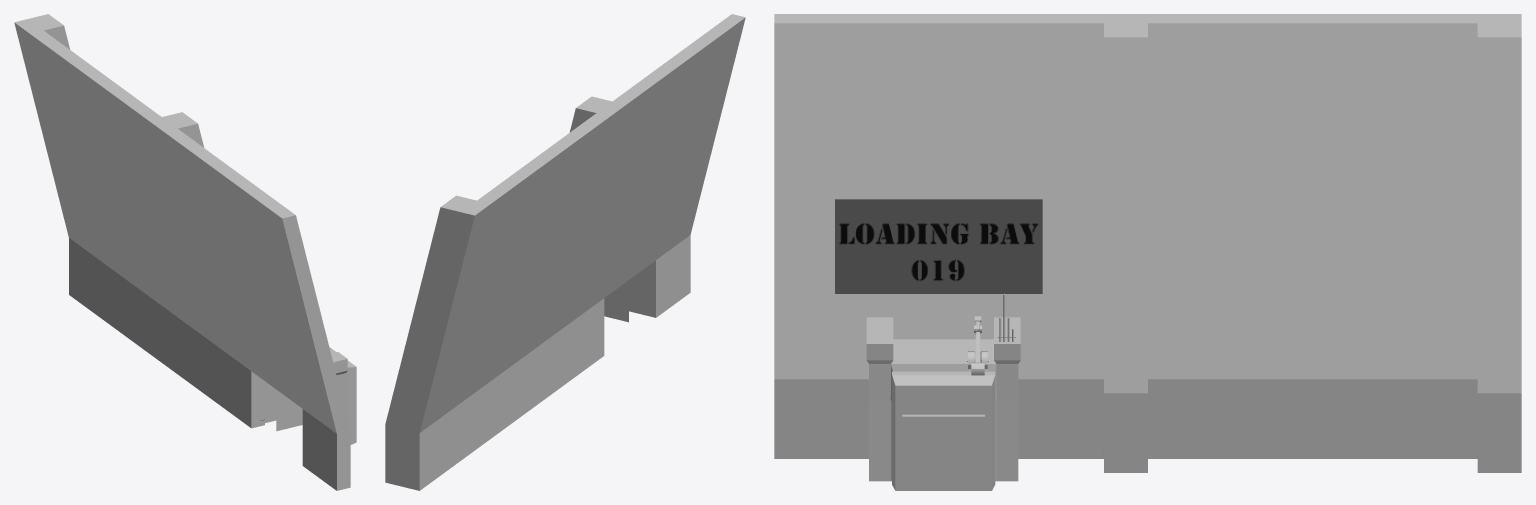
The model's file is Level2Exterior.fbx.
3 views of the same model, side by side, from view 1: azimuth 30°, elevation 25°; view 2: azimuth 150°, elevation 25°; view 3: azimuth 270°, elevation 25° (orthographic). The views are drawn at different scales.
Visible parts, largest first — view 1: ExteriorDoorFrame, ExteriorWall, ExteriorDoor; view 2: ExteriorWall, ExteriorDoorFrame; view 3: ExteriorWall, ExteriorDoorFrame, Loading Bay 19, ExteriorDoor, Loading Bay 18, Loading Bay 20.
Part boxes in pixels (x1=…): ExteriorDoorFrame: x1=148, y1=112, x2=350, y2=490; ExteriorWall: x1=14, y1=14, x2=202, y2=392; ExteriorDoor: x1=329, y1=347, x2=356, y2=444; ExteriorWall: x1=385, y1=113, x2=610, y2=490; ExteriorDoorFrame: x1=555, y1=14, x2=745, y2=391; ExteriorWall: x1=1148, y1=14, x2=1521, y2=472; ExteriorDoorFrame: x1=774, y1=14, x2=1147, y2=481; Loading Bay 19: x1=835, y1=208, x2=1042, y2=293; ExteriorDoor: x1=892, y1=371, x2=995, y2=490; Loading Bay 18: x1=835, y1=204, x2=1042, y2=208; Loading Bay 20: x1=835, y1=199, x2=1042, y2=203.
Bounding box in the file's own units: 68 × 40.03 × 17.28.
